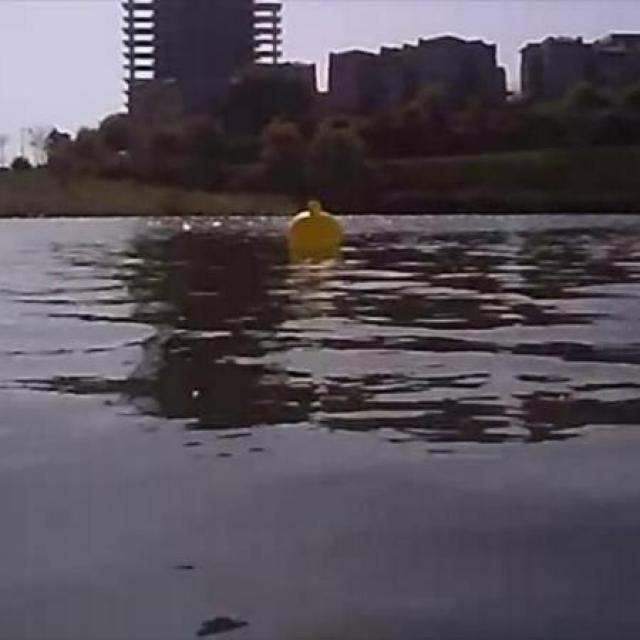buoy: (288, 201, 342, 257)
